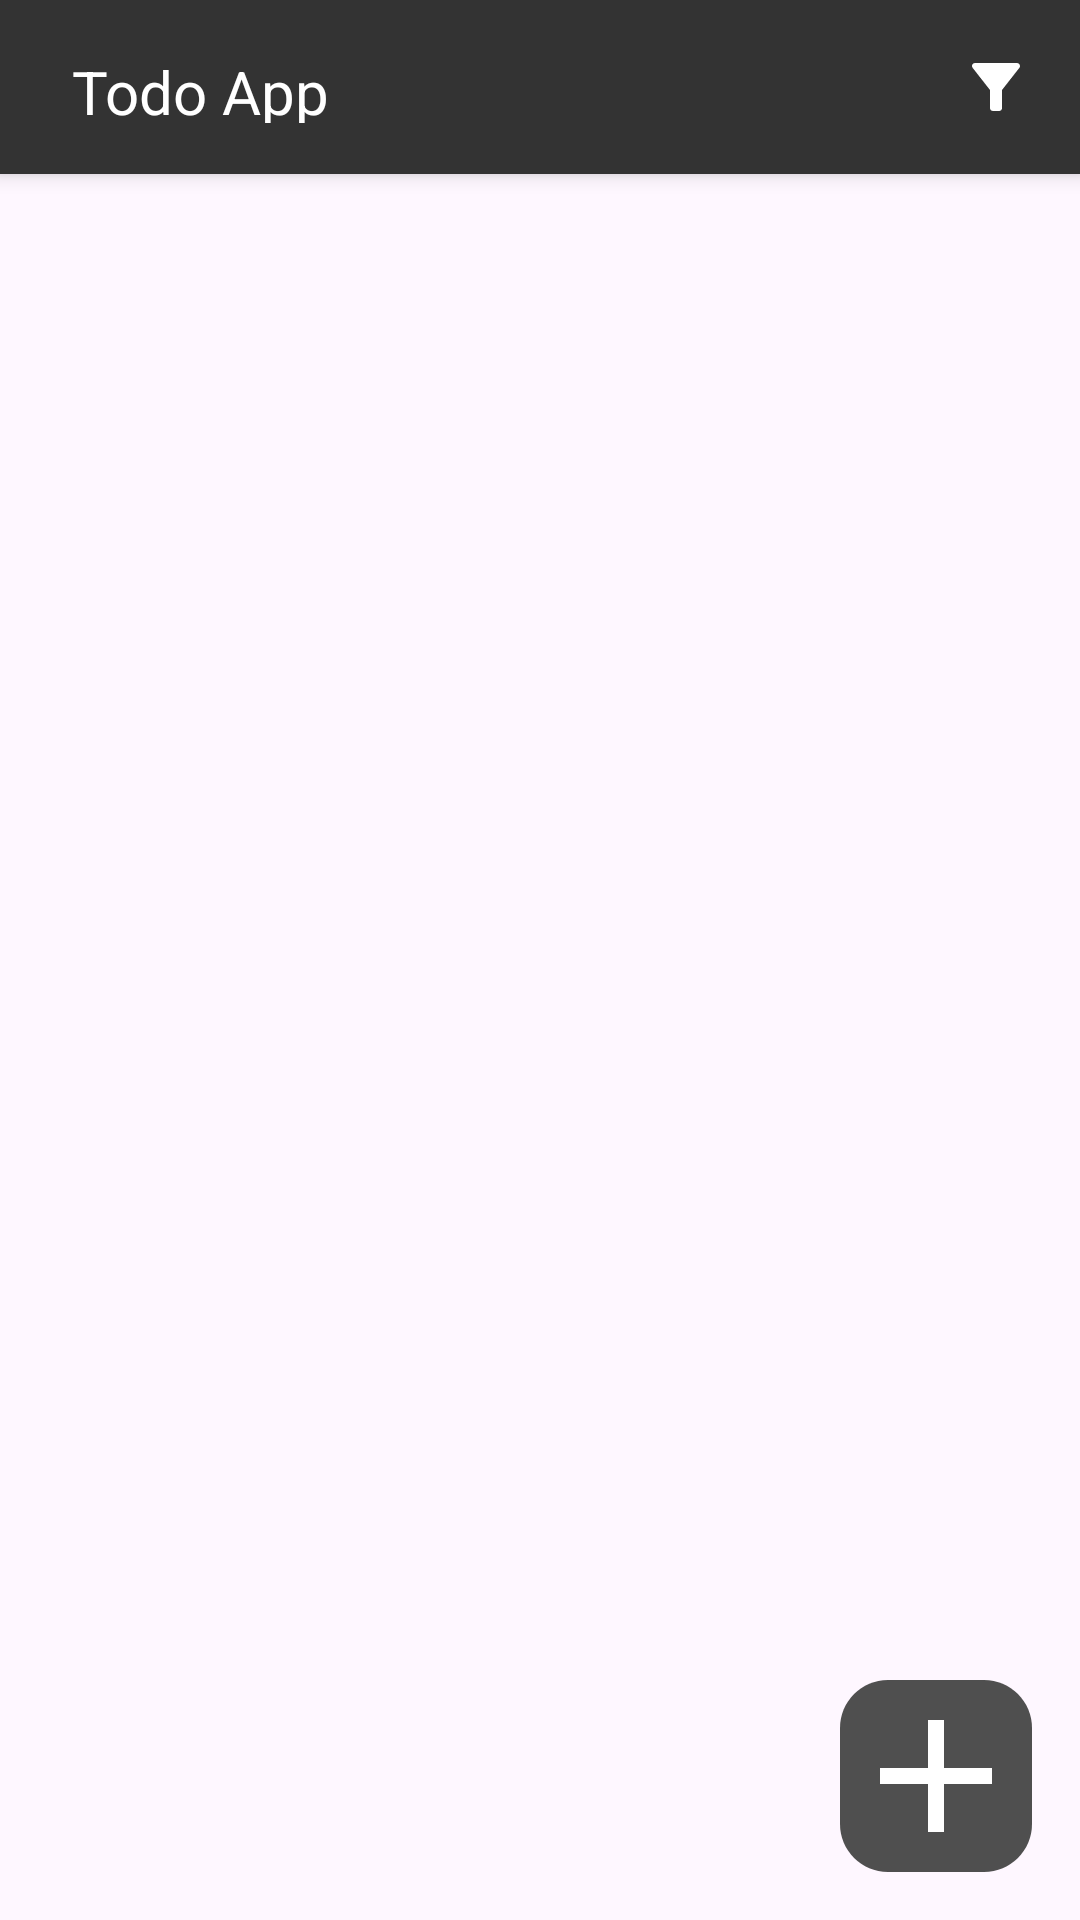

Locate icon controls on the screen. Image size 1080×1920, boxes as region(x1, y1, x2, y2).
add: region(840, 1680, 1032, 1872)
